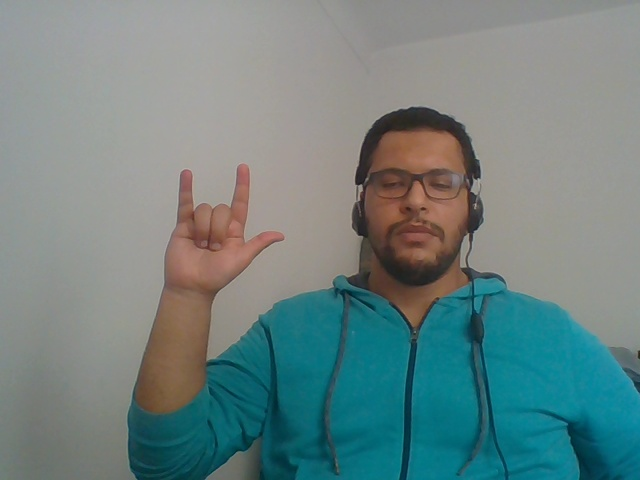iloveyou: (135, 148, 300, 336)
